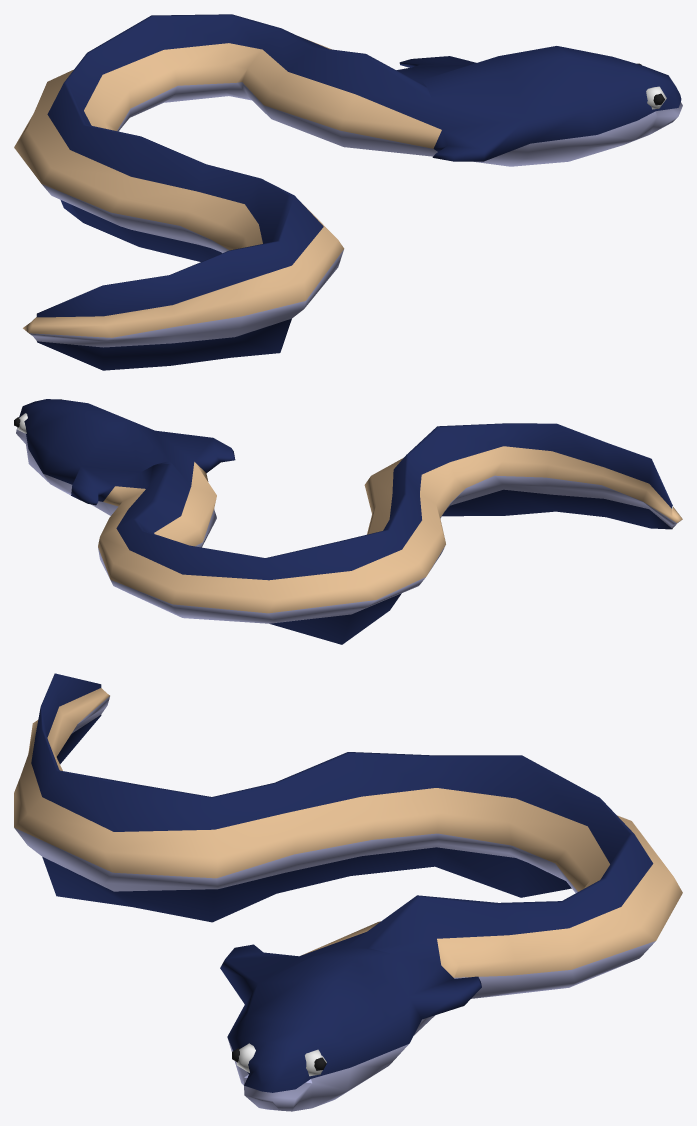
Rendered from NOVELO_EEL.obj.
3 views of the same model, one above another, from view 1: azimuth 30°, elevation 25°; view 2: azimuth 150°, elevation 25°; view 3: azimuth 270°, elevation 25° (orthographic). The views are drawn at different scales.
Parts seen in each view (by area): view 1: Symmetry.1; view 2: Symmetry.1; view 3: Symmetry.1.
Part boxes in pixels (left/top/right/bottom): Symmetry.1: left=14, top=14, right=682, bottom=370; Symmetry.1: left=16, top=399, right=682, bottom=644; Symmetry.1: left=14, top=673, right=682, bottom=1111.
Size of the model in its own units: 667 by 111 by 471.
